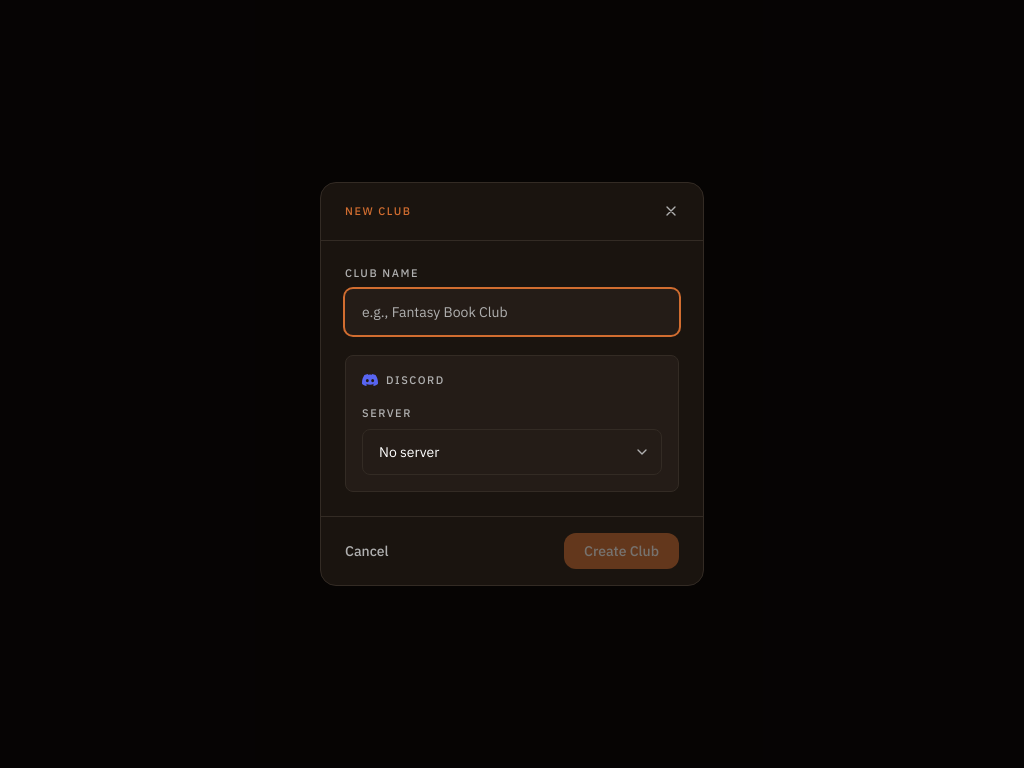
AddClubModal › Discord section › should hide channel dropdown when "No server" is selected
Select "Blingers' Books" in the dropdown labelled "Server". click: coordinates (512, 452)
box: [362,429,662,475]
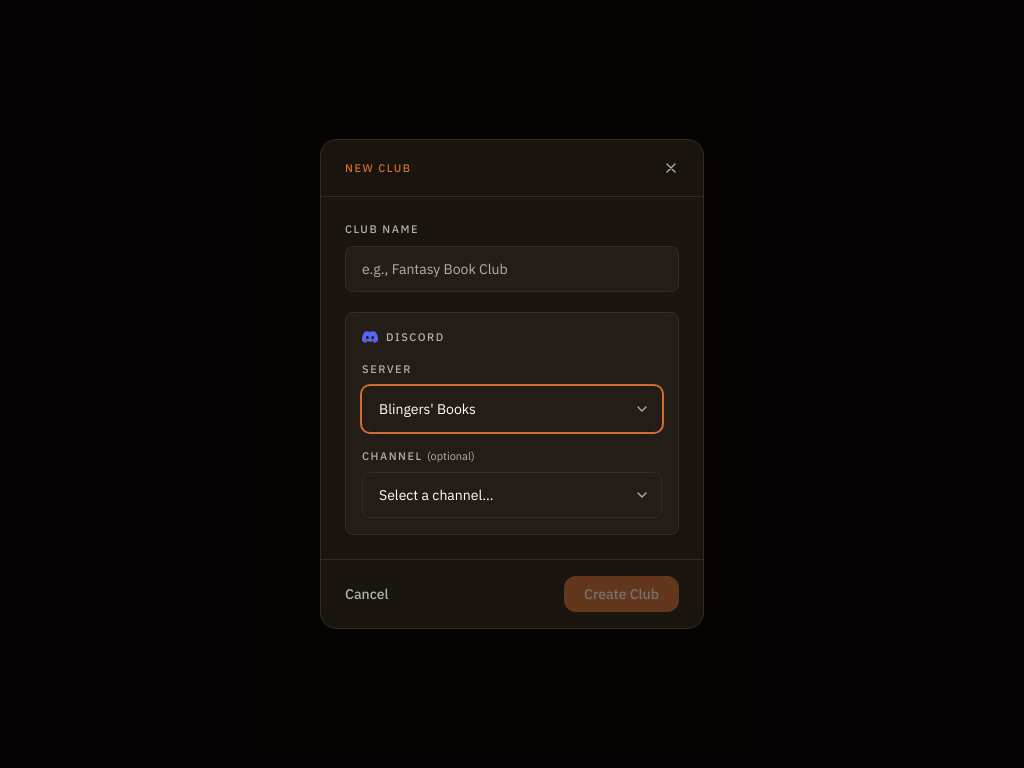
Select "No server" in the dropdown labelled "Server". click: coordinates (512, 409)
box: [362,386,662,432]
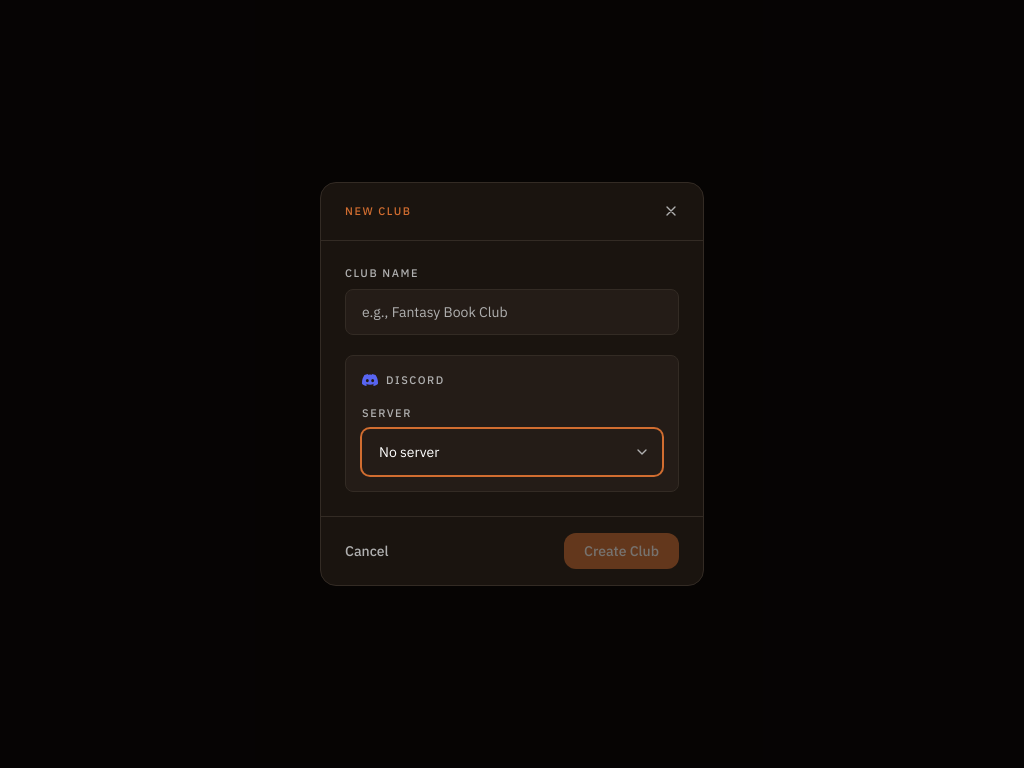
Check: the label labelled "Channel" is gone
